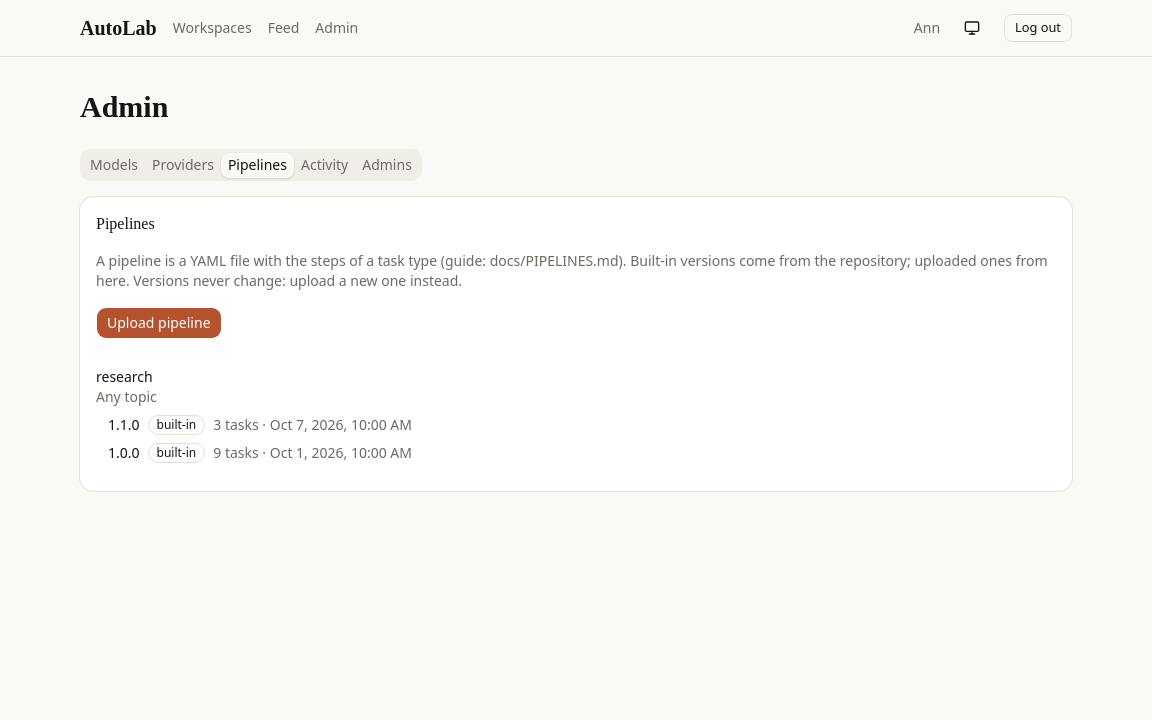
the list shows versions and their YAML
Expected: the text "research" is shown, [96,367,153,386]
Expected: the text "3 tasks · Oct 7, 2026, 10:00 AM" is shown, [213,415,412,435]
What coordinates should you click on to do the following:
click the button "1.1.0 built-in 3 tasks · Oct 7, 2026, 10:00 AM"
I would click on:
 (124, 424)
Its box is [108,415,1056,435].
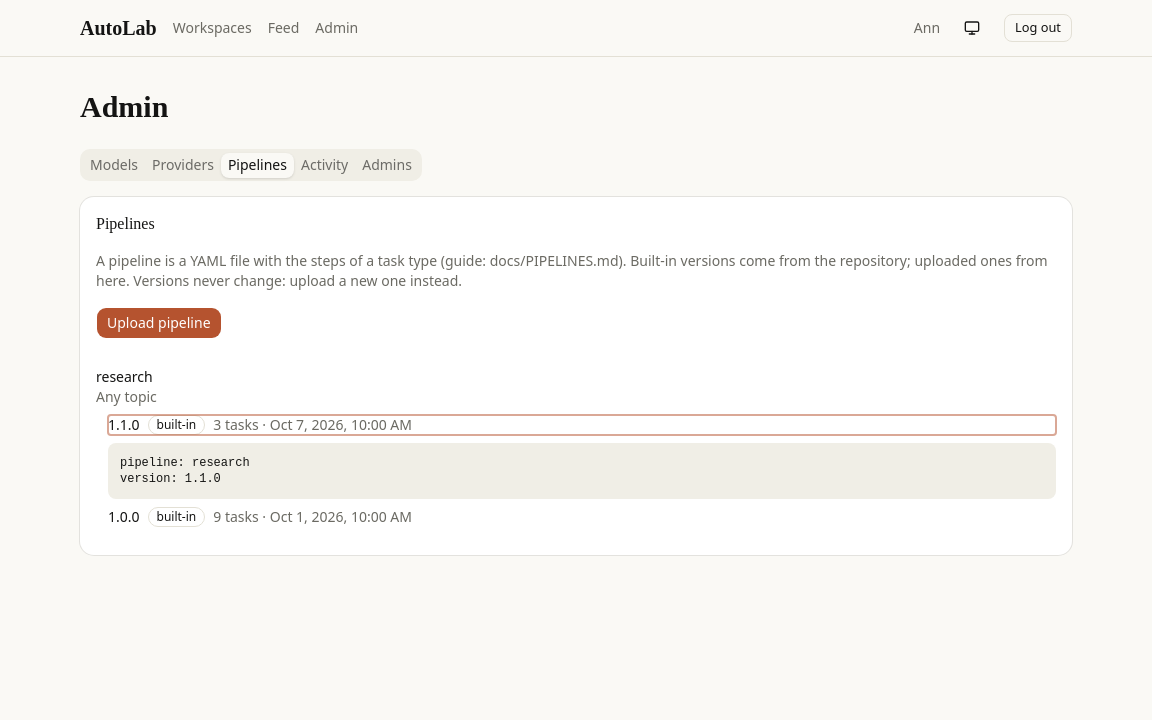
Expected: the text "pipeline: research version: 1.1.0" is shown, [108,443,1056,499]
